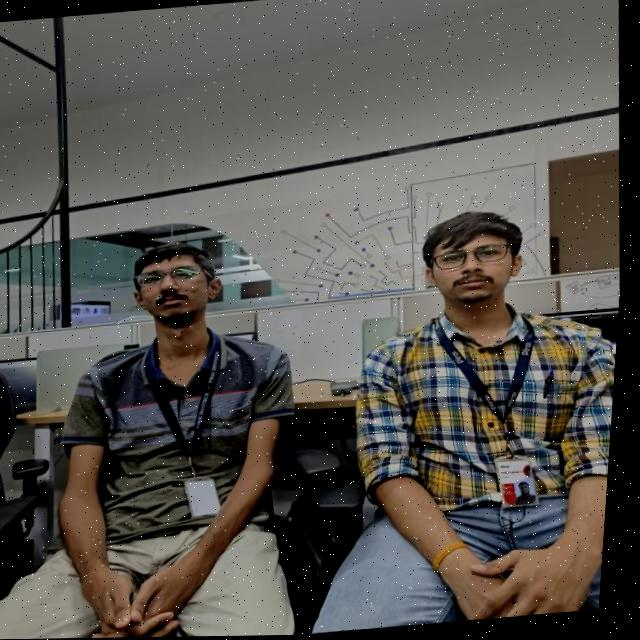id_card: (429, 302, 569, 520), (132, 327, 246, 526)
